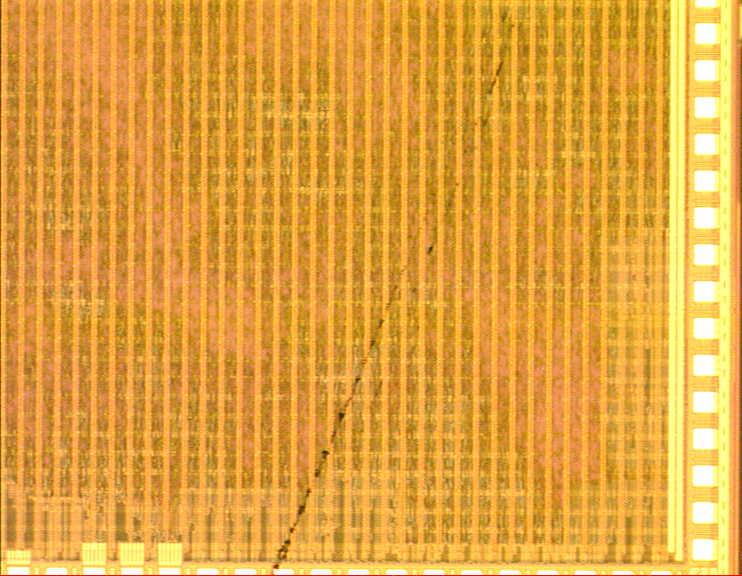SCRATCH: (265, 20, 522, 576)
